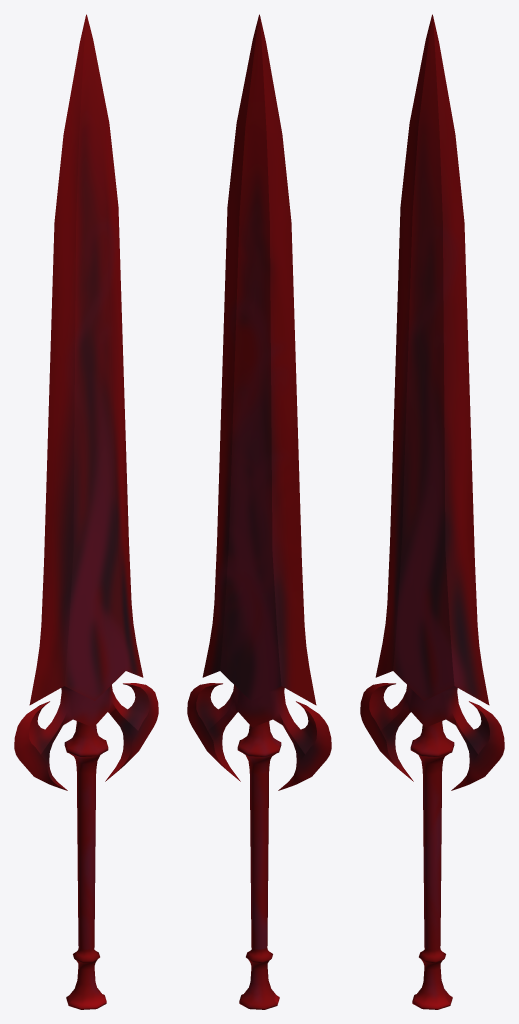
File: blood_sword.obj
3 renders of one model, left to right at view 1: azimuth 30°, elevation 25°; view 2: azimuth 150°, elevation 25°; view 3: azimuth 330°, elevation 25°, orthographic.
Visible parts, largest first — view 1: Plane; view 2: Plane; view 3: Plane.
Part boxes in pixels (x1,y1,x2,y2): Plane: (14, 14, 158, 1009); Plane: (187, 14, 331, 1009); Plane: (360, 14, 504, 1009).
Size of the model in its own units: 0.2819 by 1.85 by 0.0765.
